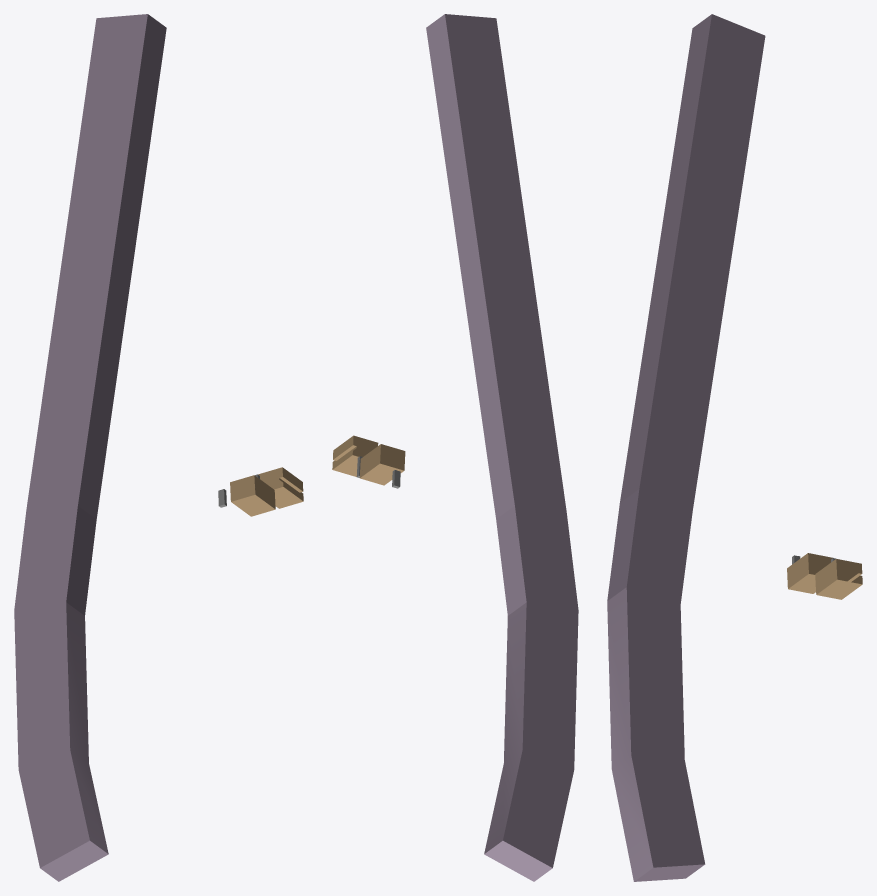
3 renders of one model, left to right at view 1: azimuth 30°, elevation 25°; view 2: azimuth 150°, elevation 25°; view 3: azimuth 330°, elevation 25°, orthographic. The views are drawn at different scales.
Visible parts, largest first — view 1: 0_2_3_3_3; view 2: 0_2_3_3_3; view 3: 0_2_3_3_3.
Boxes of the visible parts, x1,y1,x2,y2 form: 0_2_3_3_3: [14, 14, 303, 881]; 0_2_3_3_3: [332, 14, 578, 881]; 0_2_3_3_3: [607, 14, 862, 881].
Bounding box in the file's own units: 190 × 613 × 54.77.
